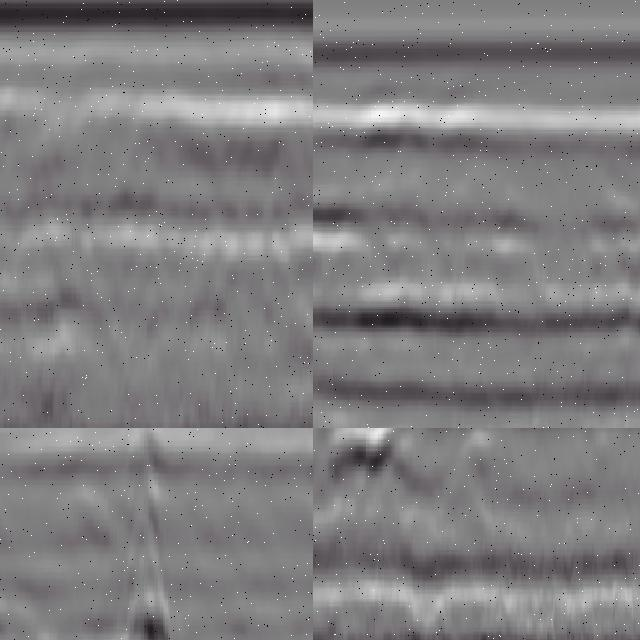crack: (125, 429, 174, 640)
loose: (314, 191, 448, 351), (315, 429, 454, 484)
